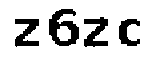6: (45, 4, 81, 48)
c: (117, 17, 144, 49)
z: (82, 15, 113, 49), (12, 16, 41, 50)
